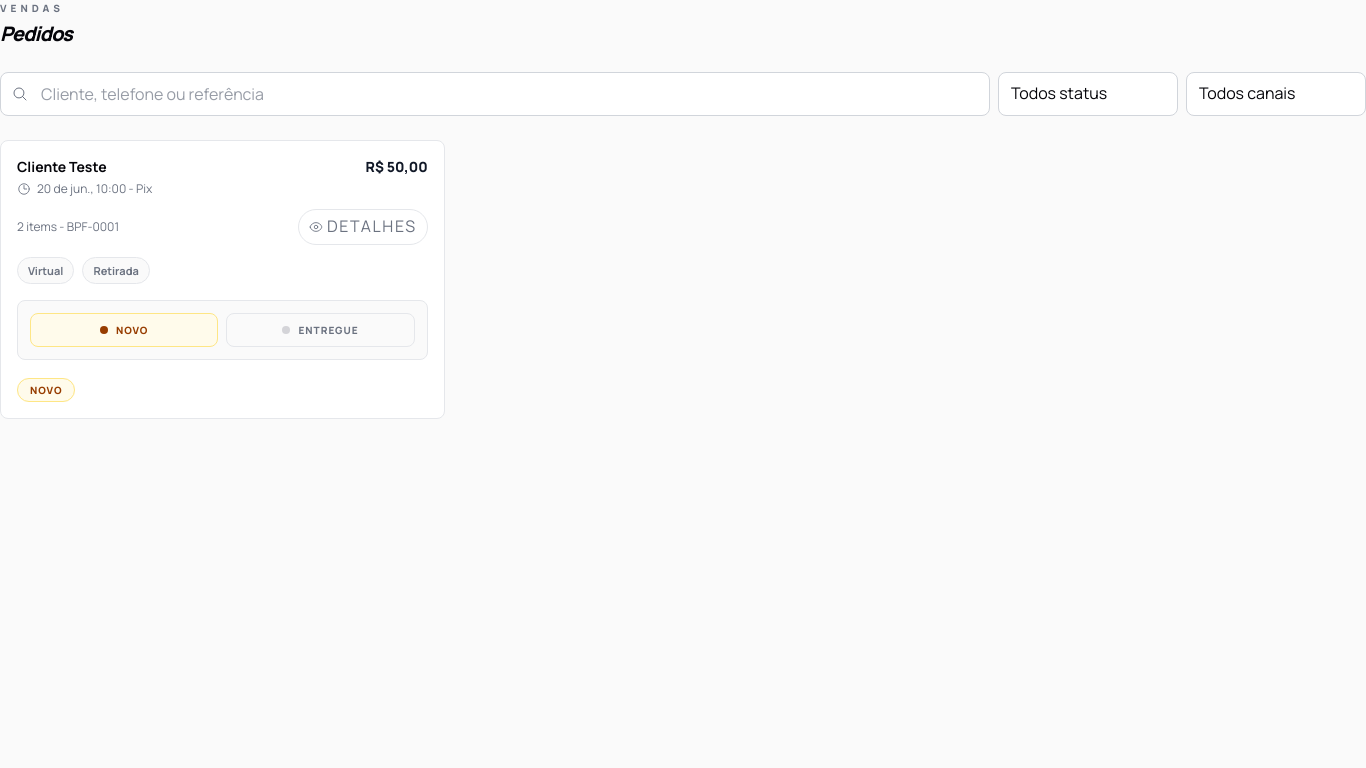
Scenario: DashboardOrdersView › asks for confirmation instead of cancelling immediately (Etapa R2 of the QR-code stock-exit refinement)
Click the button with test id "sale-detail-button" at (363, 227), box [298,209,428,245]
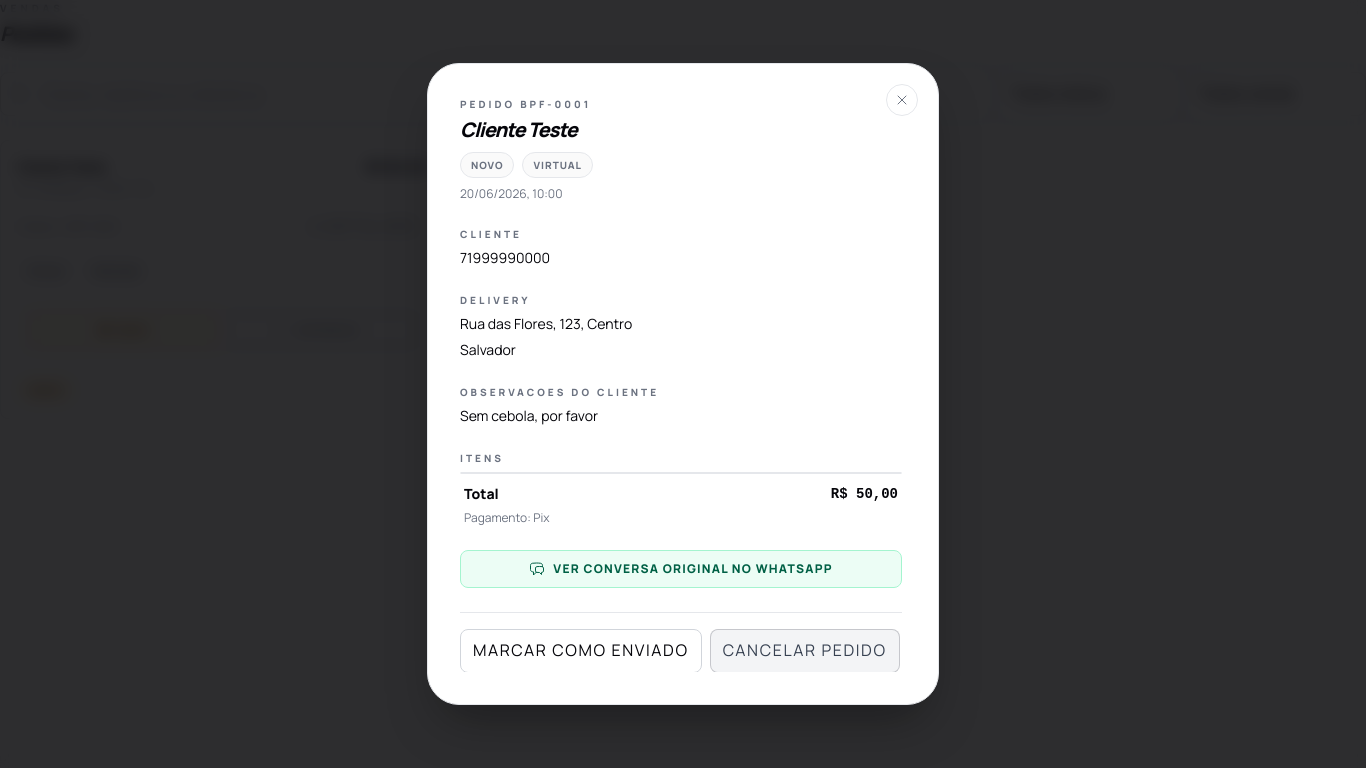
Click the button with test id "cancel-order-button" at (805, 651), box [710,629,900,673]
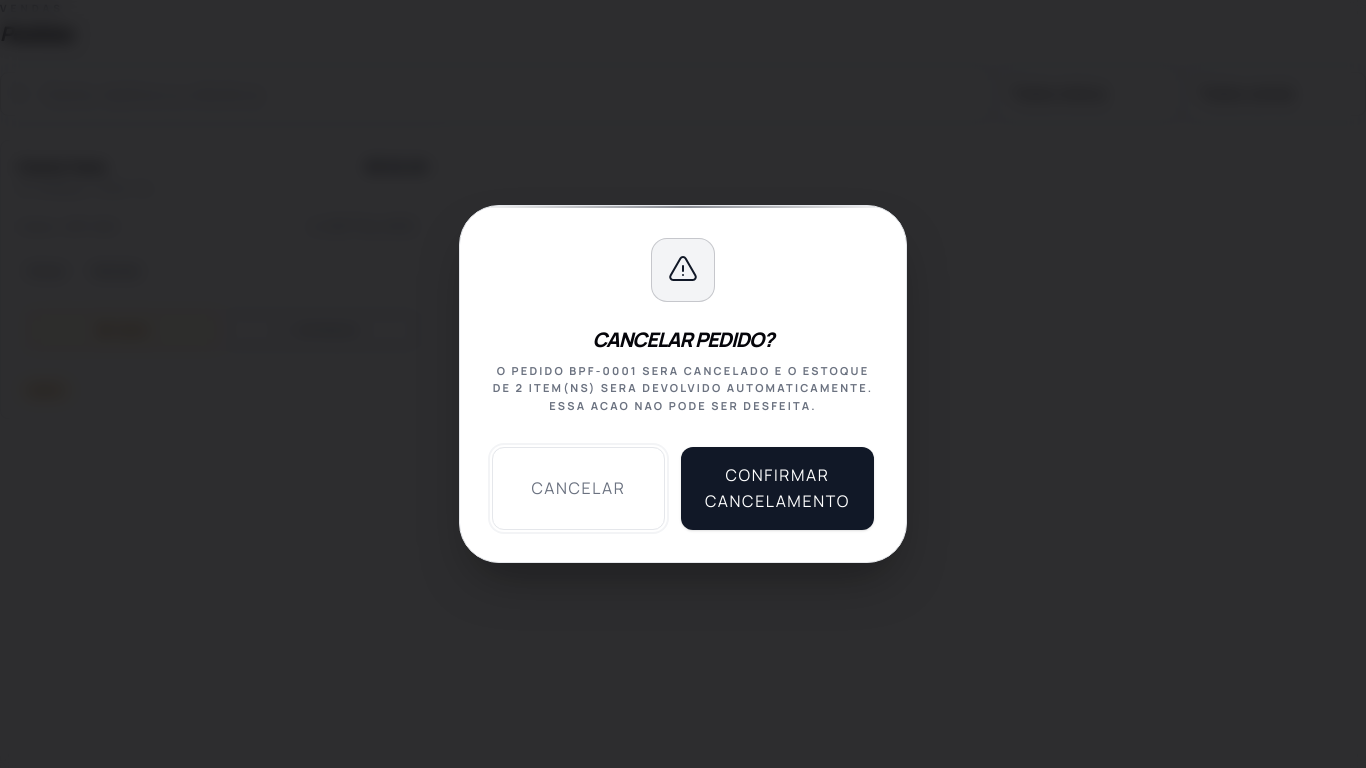
Expected: the text "Cancelar pedido?" is shown, [592,326,773,354]
Expected: the text "estoque de 2 item(ns) sera devolvido" is shown, [493,363,873,413]
